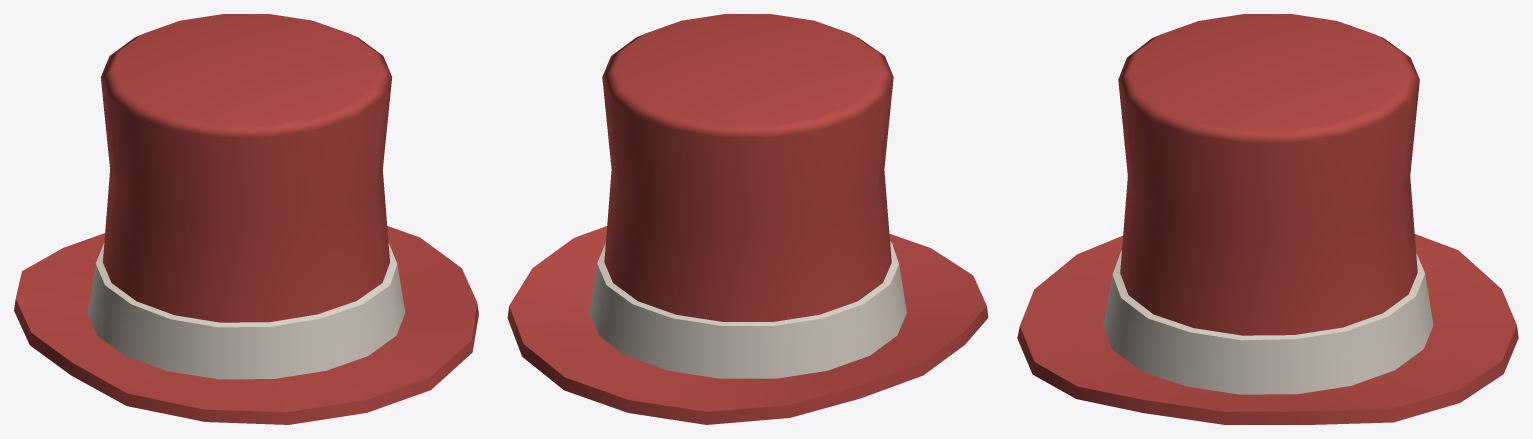
Rendered from Hat_02_02.fbx.
The picture shows the model from 3 angles, left to right: view 1: azimuth 30°, elevation 25°; view 2: azimuth 150°, elevation 25°; view 3: azimuth 270°, elevation 25°; orthographic projection. The views are drawn at different scales.
Visible parts, largest first — view 1: Hat_02_02; view 2: Hat_02_02; view 3: Hat_02_02.
Part boxes in pixels (bbox=[...]): Hat_02_02: bbox=[14, 14, 478, 424]; Hat_02_02: bbox=[507, 14, 988, 424]; Hat_02_02: bbox=[1017, 14, 1518, 424].
Bounding box in the file's own units: 51.45 × 32.28 × 54.67.
